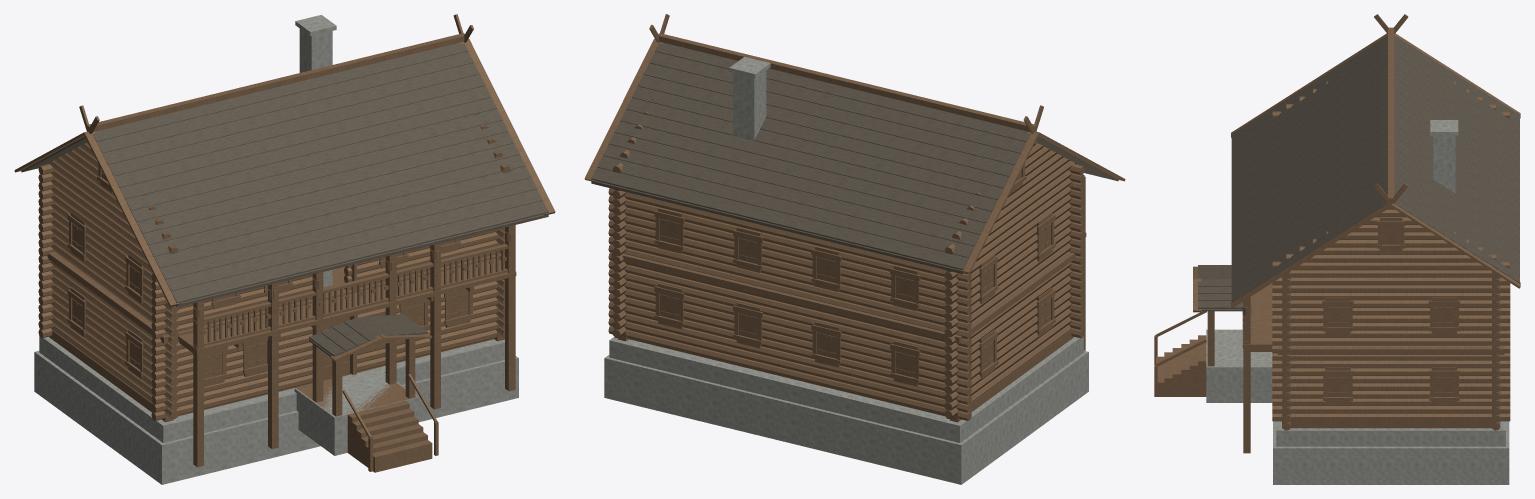
3 views of the same model, side by side, from view 1: azimuth 30°, elevation 25°; view 2: azimuth 150°, elevation 25°; view 3: azimuth 270°, elevation 25° (orthographic). The views are drawn at different scales.
Visible parts, largest first — view 1: T1_roof, T1_foundation, T1_shell, T1_gable, T1_frame, T1_gallery.001, T1_railing, T1_entry_step, T1_gallery, T1_shutter, T1_chimney, T1_porch.001 (+3 smaller); view 2: T1_roof, T1_shell, T1_foundation, T1_frame, T1_gable, T1_shutter, T1_chimney, T1_floor; view 3: T1_roof, T1_gable, T1_foundation, T1_frame, T1_shell, T1_entry_step, T1_shutter, T1_chimney, T1_gallery, T1_gallery.001, T1_floor, T1_porch.001 (+1 smaller).
Part boxes in pixels (box(x1,y1,x2,y2)): T1_roof: box(21, 43, 548, 356); T1_foundation: box(34, 336, 518, 484); T1_shell: box(38, 164, 504, 422); T1_gable: box(45, 98, 510, 418); T1_frame: box(14, 14, 555, 387); T1_gallery.001: box(179, 225, 515, 467); T1_railing: box(193, 244, 508, 471); T1_entry_step: box(347, 400, 432, 472); T1_gallery: box(178, 258, 516, 353); T1_shutter: box(72, 170, 468, 378); T1_chimney: box(295, 15, 336, 287); T1_porch.001: box(330, 333, 432, 416); T1_roof: box(591, 43, 1118, 274); T1_shell: box(608, 164, 1084, 422); T1_foundation: box(604, 336, 1088, 484); T1_frame: box(584, 14, 1125, 386); T1_gable: box(612, 98, 1077, 418); T1_shutter: box(660, 170, 1050, 377); T1_chimney: box(729, 57, 770, 140); T1_floor: box(629, 338, 1037, 419); T1_roof: box(1198, 35, 1519, 311); T1_gable: box(1272, 74, 1510, 421); T1_foundation: box(1206, 329, 1509, 484); T1_frame: box(1231, 14, 1520, 404); T1_shell: box(1282, 271, 1500, 430); T1_entry_step: box(1156, 335, 1206, 396); T1_shutter: box(1327, 226, 1454, 396); T1_chimney: box(1430, 120, 1458, 192); T1_gallery: box(1242, 283, 1272, 348); T1_gallery.001: box(1242, 297, 1272, 453); T1_floor: box(1290, 425, 1491, 428); T1_porch.001: box(1193, 266, 1214, 366).
Size of the model in its own units: 14.7 by 12.18 by 13.08.
Materials: 4 (3 with a texture image).
